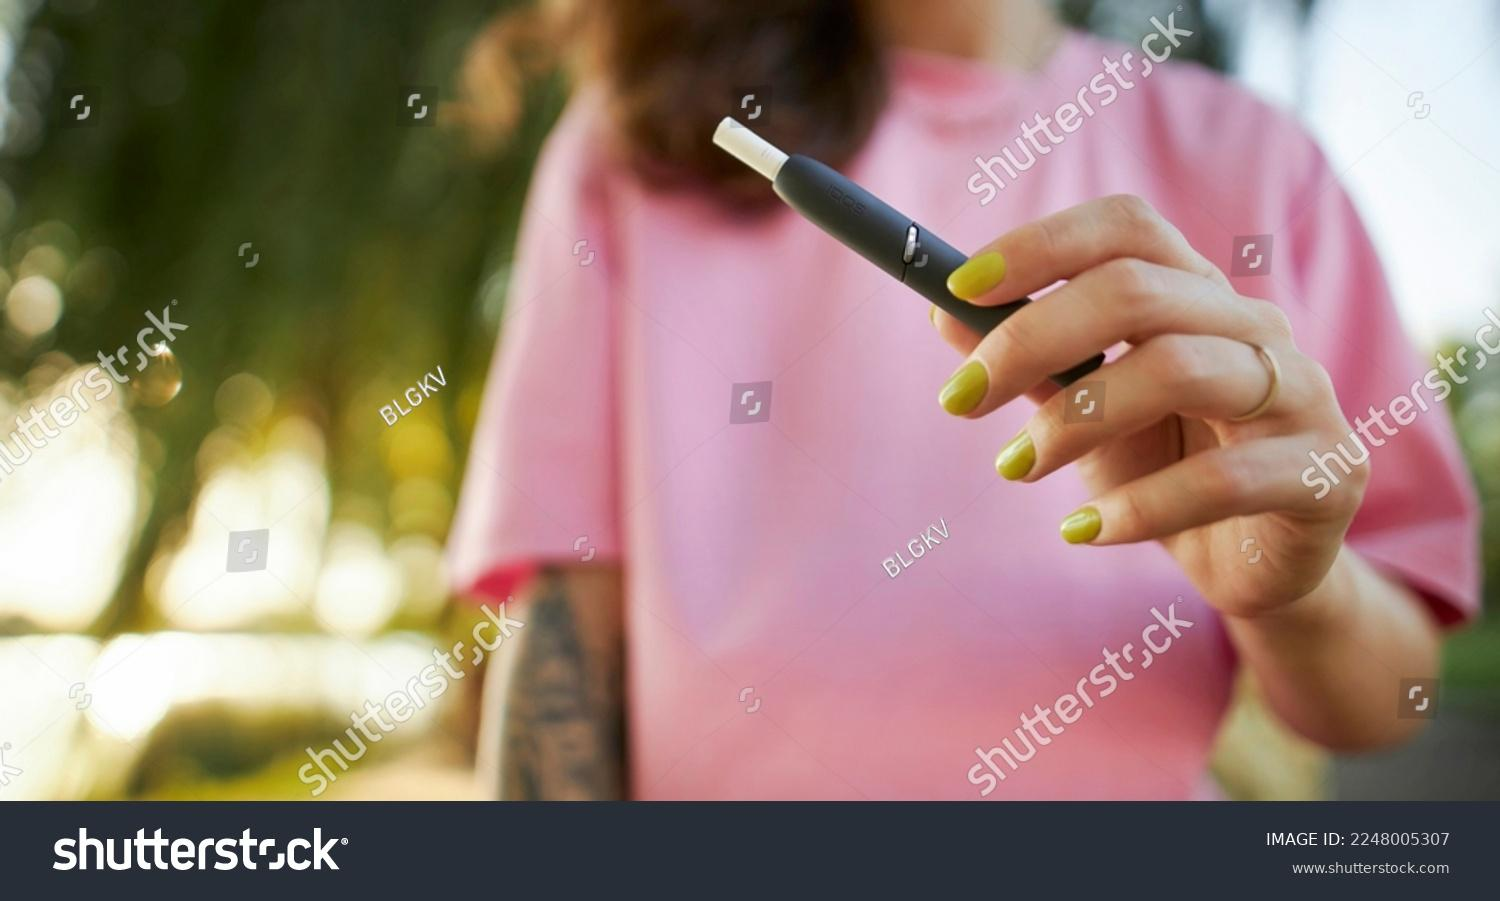iqos: (712, 116, 1029, 335)
